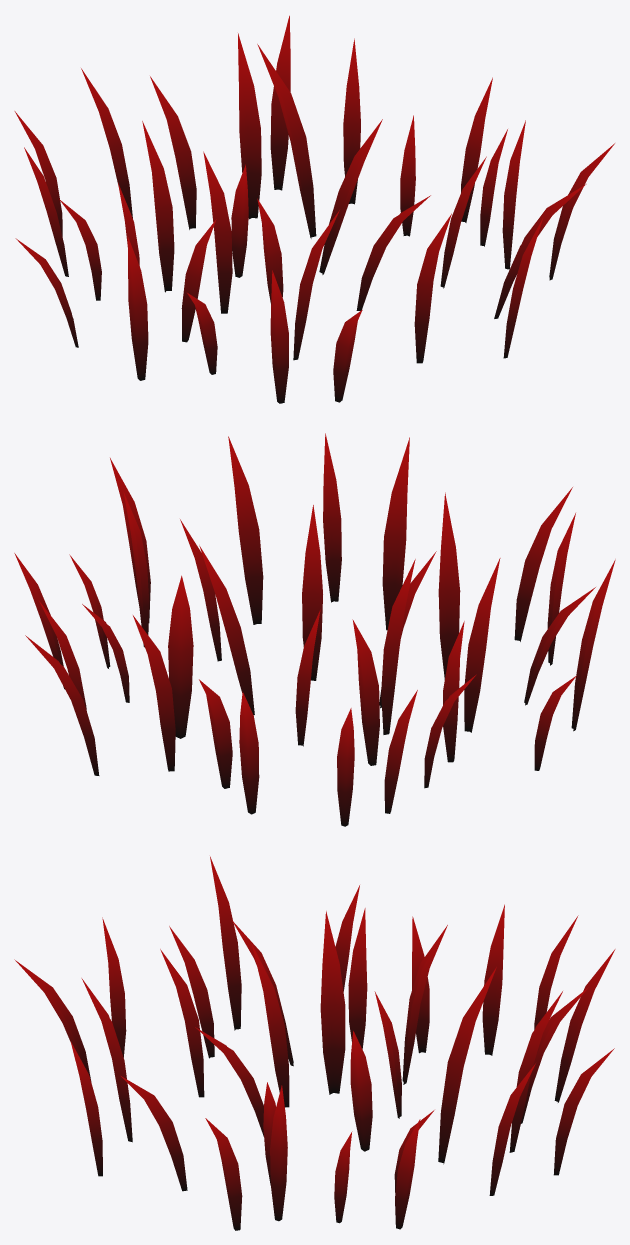
Rendered from Grass.fbx.
The picture shows the model from 3 angles, top to bottom: view 1: azimuth 30°, elevation 25°; view 2: azimuth 150°, elevation 25°; view 3: azimuth 270°, elevation 25°; orthographic projection. The views are drawn at different scales.
Visible parts, largest first — view 1: Grass; view 2: Grass; view 3: Grass.
Part boxes in pixels (x1,y1,x2,y2): Grass: (14,15,614,403); Grass: (14,433,615,826); Grass: (14,856,615,1230).
Bounding box in the file's own units: 2.11 × 0.7064 × 2.09.
